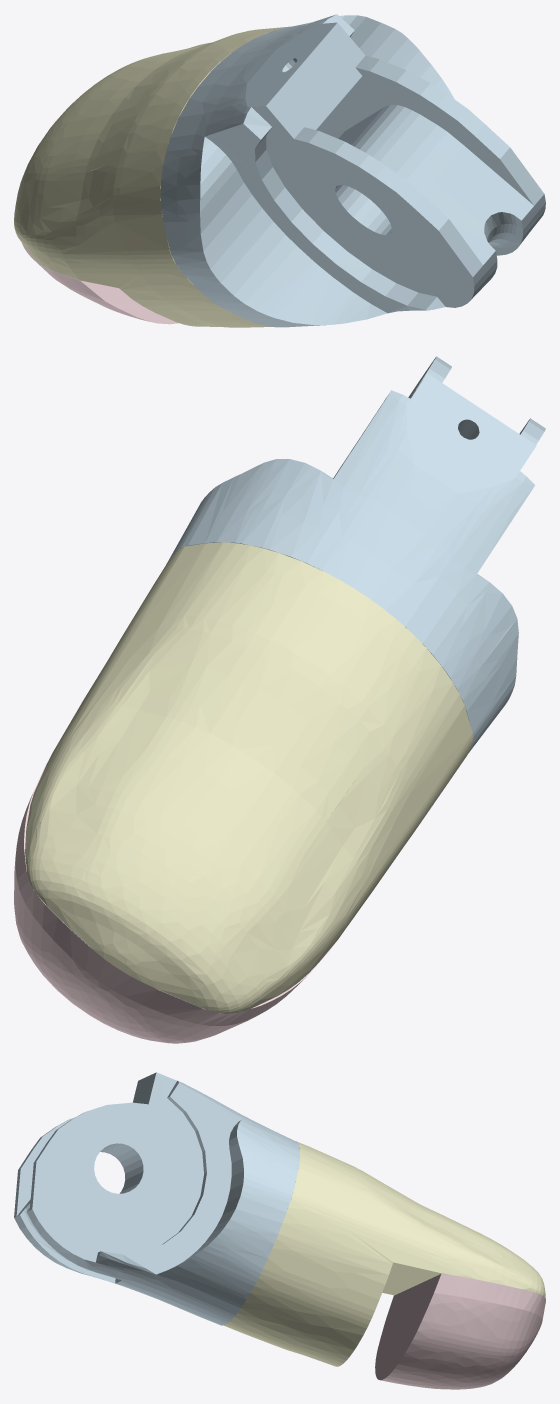
The model's file is i02_rightHand_majeureTip_visual.obj.balanced.glb.
The picture shows the model from 3 angles, top to bottom: view 1: azimuth 30°, elevation 25°; view 2: azimuth 150°, elevation 25°; view 3: azimuth 270°, elevation 25°; orthographic projection. The views are drawn at different scales.
Bounding box in the file's own units: 0.158 × 0.2377 × 0.3769.
